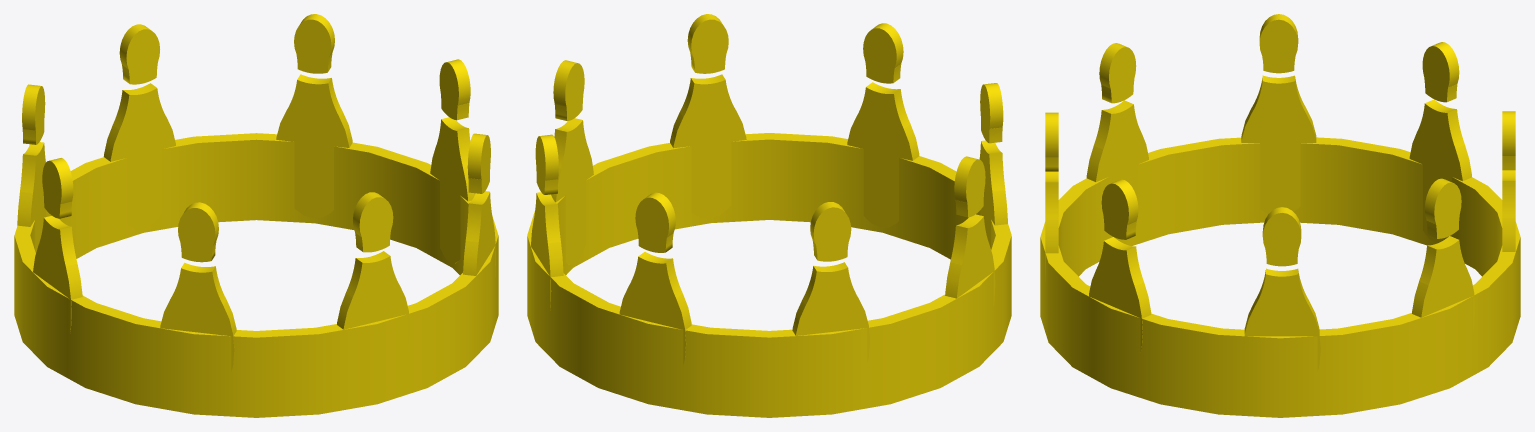
Rendered from winners-crown.dae.
The picture shows the model from 3 angles, left to right: view 1: azimuth 30°, elevation 25°; view 2: azimuth 150°, elevation 25°; view 3: azimuth 270°, elevation 25°; orthographic projection.
Visible parts, largest first — view 1: SketchUp (×2), cone (×16); view 2: SketchUp (×2), cone (×16); view 3: SketchUp (×2), cone (×16).
Boxes of the visible parts, x1,y1,x2,y2 form: SketchUp (×2): (14,133,498,417); cone (×16): (17,14,495,371); SketchUp (×2): (527,133,1011,417); cone (×16): (531,14,1007,364); SketchUp (×2): (1040,137,1520,417); cone (×16): (1045,14,1515,370).
Bounding box in the file's own units: 46.46 × 46.46 × 21.68.
